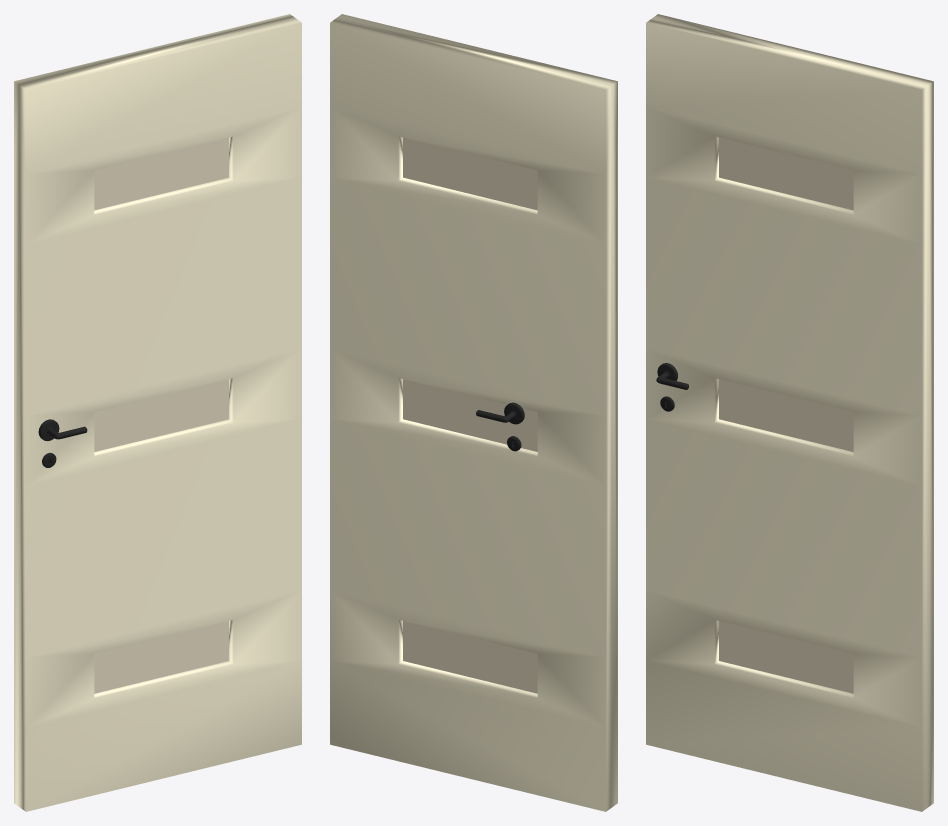
Rendered from 0690fec0-17ef-4b6f-a4df-e88447036f14.glb.
3 views of the same model, side by side, from view 1: azimuth 30°, elevation 25°; view 2: azimuth 150°, elevation 25°; view 3: azimuth 330°, elevation 25° (orthographic).
Parts seen in each view (by area): view 1: Door.007; view 2: Door.007; view 3: Door.007.
Part boxes in pixels (bbox=[...]): Door.007: bbox=[14, 14, 301, 811]; Door.007: bbox=[330, 14, 617, 811]; Door.007: bbox=[646, 14, 933, 811].
Size of what is drawn, in the model's own units: 0.8628 by 2.16 by 0.1816.
Materials: 2 (2 with a texture image).
